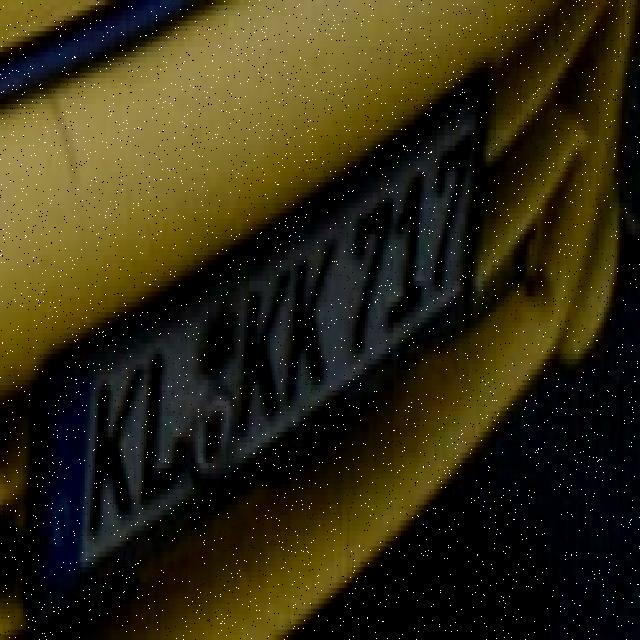licenseplate: (26, 27, 514, 620)
